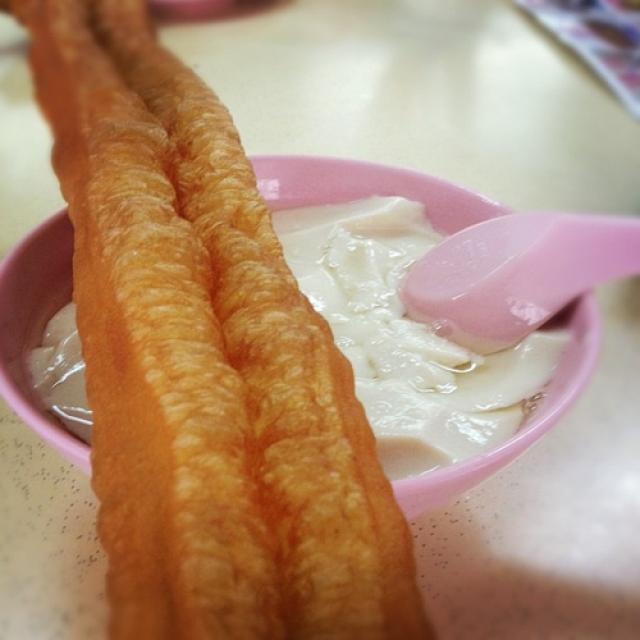炸货点心: (15, 15, 443, 626)
